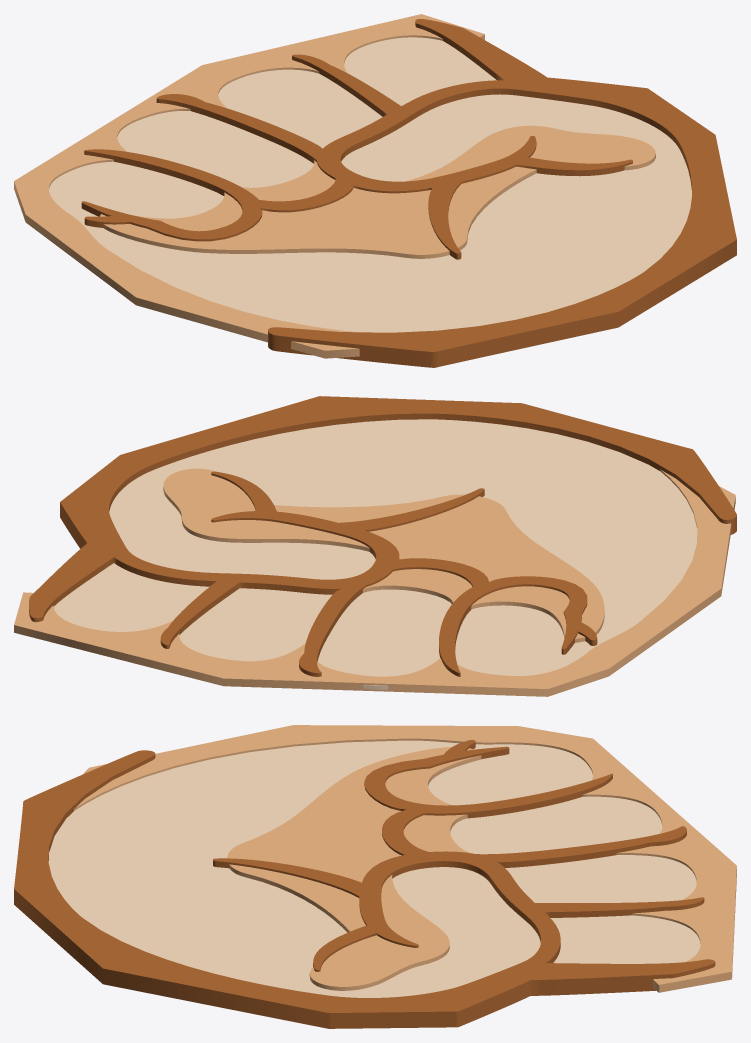
The model's file is emoji_u270a_1f3fb.glb.
3 views of the same model, one above another, from view 1: azimuth 30°, elevation 25°; view 2: azimuth 150°, elevation 25°; view 3: azimuth 270°, elevation 25° (orthographic). The views are drawn at different scales.
Parts seen in each view (by area): view 1: emoji_u270a_1f3fb; view 2: emoji_u270a_1f3fb; view 3: emoji_u270a_1f3fb.
Part boxes in pixels (bbox=[...]): emoji_u270a_1f3fb: bbox=[14, 14, 736, 367]; emoji_u270a_1f3fb: bbox=[14, 396, 736, 696]; emoji_u270a_1f3fb: bbox=[14, 725, 736, 1028].
Size of the model in its own units: 0.0317 by 0.0008 by 0.0332.
